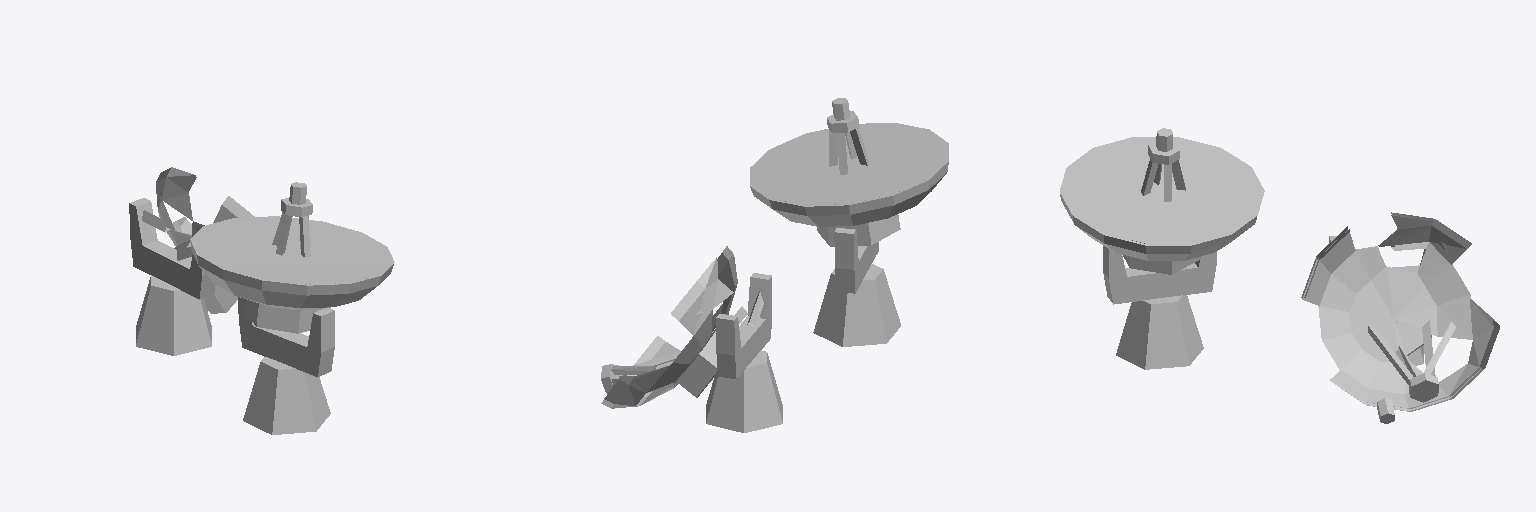
The model's file is comDish.obj.
3 renders of one model, left to right at view 1: azimuth 30°, elevation 25°; view 2: azimuth 150°, elevation 25°; view 3: azimuth 270°, elevation 25°, orthographic.
Parts seen in each view (by area): view 1: DishBASE ARM Dish, DishDEAD, DishBASE, DishBASE ARM; view 2: DishBASE ARM Dish, DishDEAD, DishBASE, DishBASE ARM; view 3: DishDEAD, DishBASE ARM Dish, DishBASE, DishBASE ARM.
Boxes of the visible parts, <box> form: DishBASE ARM Dish: <box>190,182,394,333</box>; DishDEAD: <box>129,167,254,355</box>; DishBASE: <box>243,357,330,434</box>; DishBASE ARM: <box>238,297,334,376</box>; DishBASE ARM Dish: <box>750,98,948,246</box>; DishDEAD: <box>601,246,782,432</box>; DishBASE: <box>813,264,900,346</box>; DishBASE ARM: <box>834,228,878,293</box>; DishDEAD: <box>1301,212,1499,423</box>; DishBASE ARM Dish: <box>1060,128,1264,274</box>; DishBASE: <box>1116,295,1203,369</box>; DishBASE ARM: <box>1103,246,1216,304</box>.
Bounding box in the file's own units: 7.99 × 8.17 × 13.89.